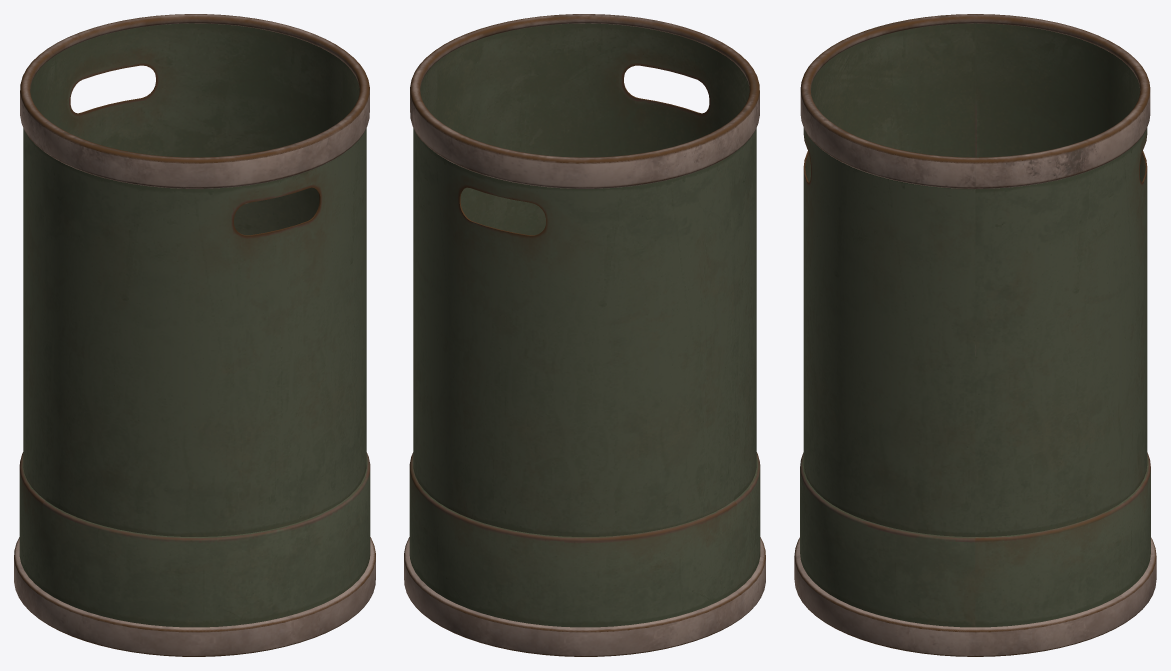
File: B1M1_Trashcan_GEO.fbx
The picture shows the model from 3 angles, left to right: view 1: azimuth 30°, elevation 25°; view 2: azimuth 150°, elevation 25°; view 3: azimuth 270°, elevation 25°; orthographic projection.
Parts seen in each view (by area): view 1: B1M1_Trashcan; view 2: B1M1_Trashcan; view 3: B1M1_Trashcan.
Part boxes in pixels (bbox=[...]): B1M1_Trashcan: bbox=[14, 14, 375, 656]; B1M1_Trashcan: bbox=[404, 14, 765, 656]; B1M1_Trashcan: bbox=[794, 14, 1156, 656].
Size of the model in its own units: 36.85 by 55.49 by 36.85.
